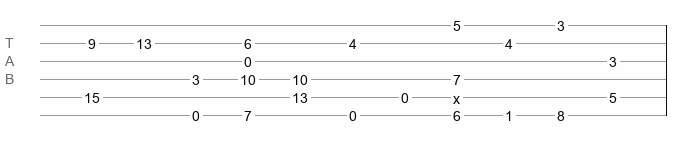0: (192, 108, 200, 118), (244, 54, 252, 64), (349, 108, 357, 118), (401, 90, 409, 100)
1: (505, 108, 513, 118)
10: (240, 72, 256, 82), (292, 72, 308, 82)
13: (136, 36, 152, 46), (292, 90, 308, 100)
15: (84, 90, 100, 100)
3: (192, 72, 200, 82), (557, 18, 565, 28), (609, 54, 617, 64)
4: (349, 36, 357, 46), (505, 36, 513, 46)
5: (453, 18, 461, 28), (609, 90, 617, 100)
6: (244, 36, 252, 46), (453, 108, 461, 118)
7: (244, 108, 252, 118), (453, 72, 461, 82)
8: (557, 108, 565, 118)
9: (88, 36, 96, 46)
x: (453, 91, 460, 99)
